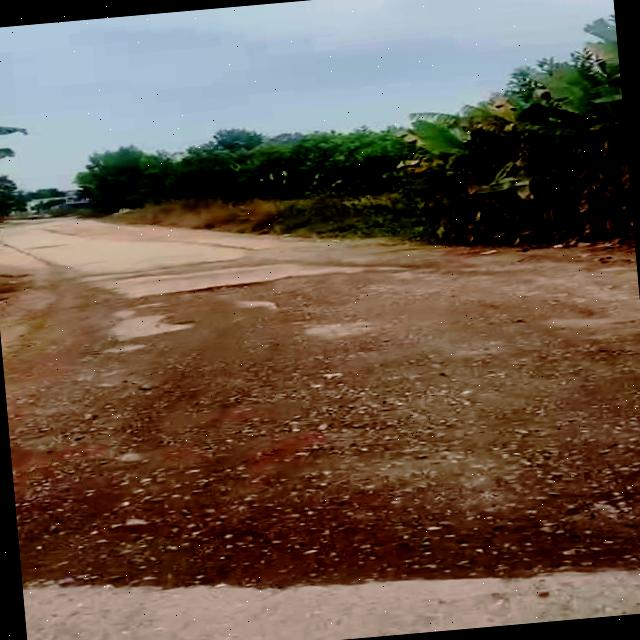pothole: (146, 276, 275, 314)
